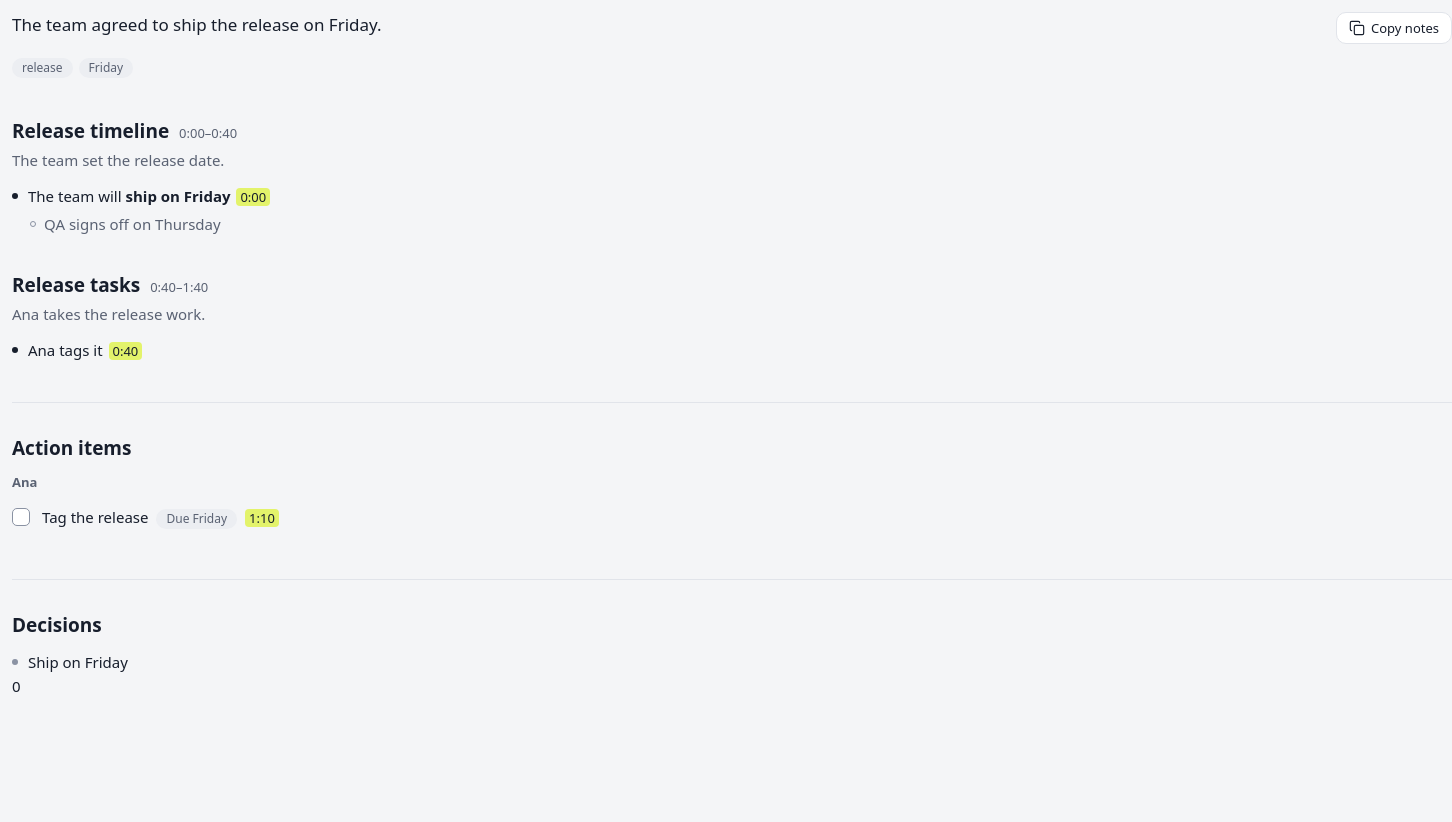
Test: NotesDocument › topic sections and playback › plays a section from its start
This screenshot has width=1452, height=822.
Click the button named "Play Release tasks, 0:40 to 1:40" at (179, 287), box top-left (146, 278), bottom-right (212, 296)
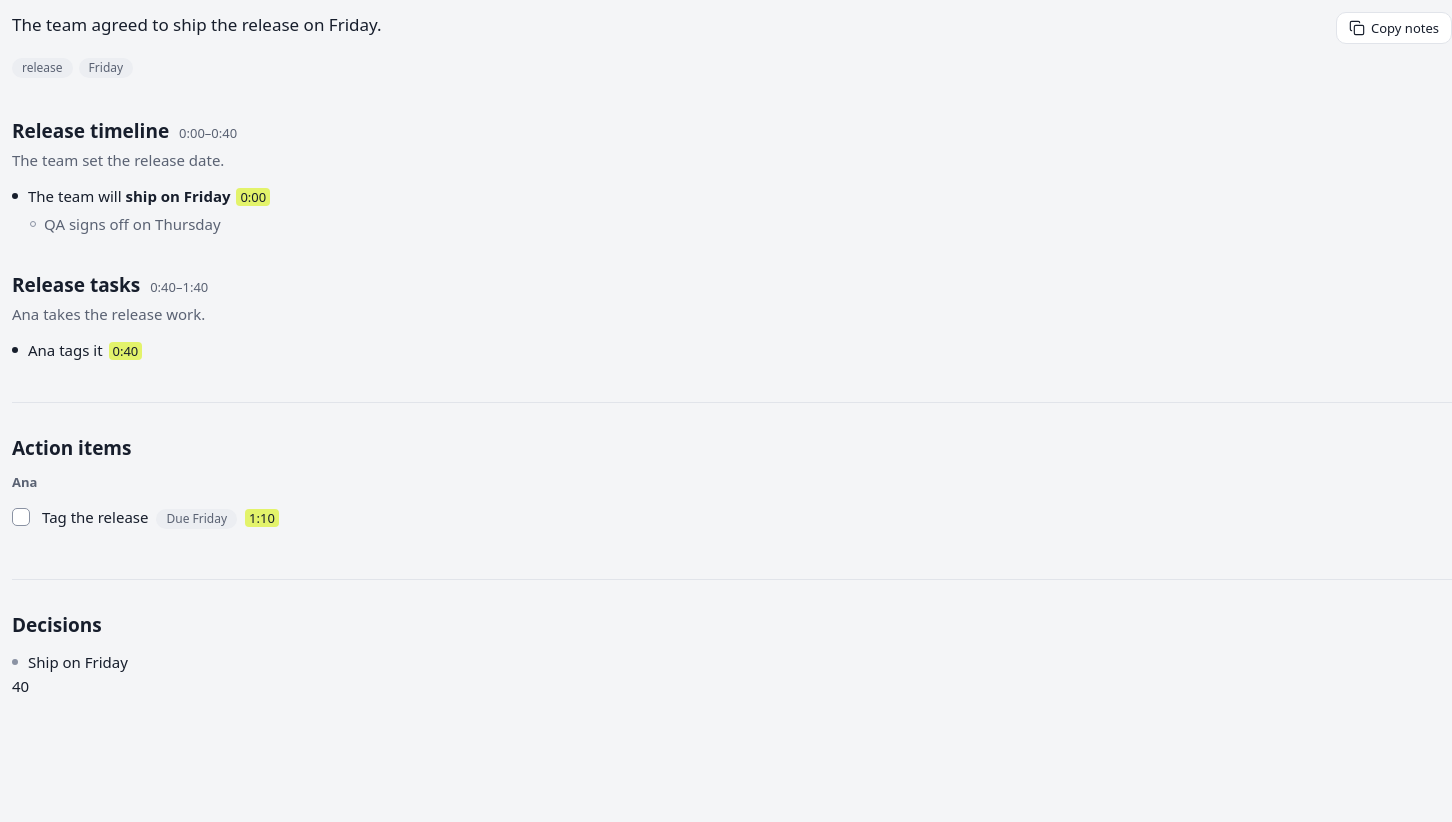
Now the text named "Position" reads "40", box top-left (12, 676), bottom-right (29, 696)
